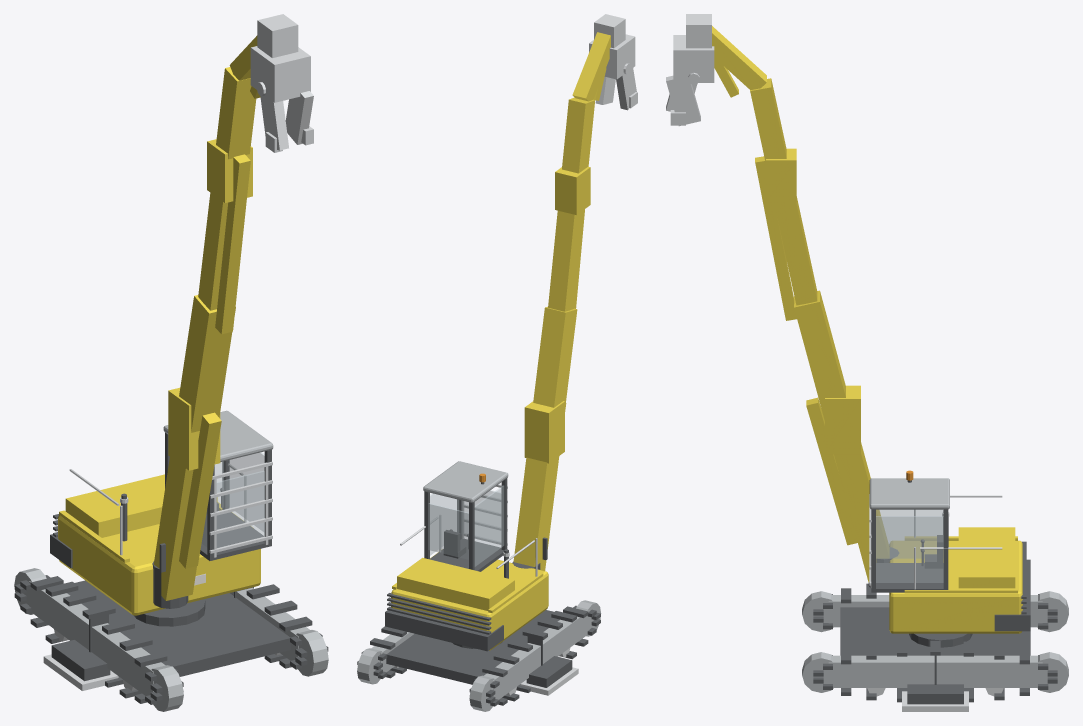
Rendered from high-reach-demolition-excavator.glb.
3 renders of one model, left to right at view 1: azimuth 30°, elevation 25°; view 2: azimuth 150°, elevation 25°; view 3: azimuth 270°, elevation 25°, orthographic. The views are drawn at different scales.
Parts seen in each view (by area): view 1: demolition-and-site-clearance-high-reach-demolition-excavato (×5), boom, pulveriser; view 2: demolition-and-site-clearance-high-reach-demolition-excavato (×5), boom, pulveriser; view 3: demolition-and-site-clearance-high-reach-demolition-excavato (×5), boom, pulveriser.
Boxes of the visible parts, x1=… form: demolition-and-site-clearance-high-reach-demolition-excavato (×5): x1=14, y1=410, x2=328, y2=711; boom: x1=153, y1=35, x2=260, y2=600; pulveriser: x1=250, y1=14, x2=313, y2=152; demolition-and-site-clearance-high-reach-demolition-excavato (×5): x1=357, y1=461, x2=601, y2=711; boom: x1=513, y1=32, x2=610, y2=570; pulveriser: x1=589, y1=14, x2=637, y2=110; demolition-and-site-clearance-high-reach-demolition-excavato (×5): x1=802, y1=478, x2=1068, y2=711; boom: x1=712, y1=26, x2=889, y2=582; pulveriser: x1=666, y1=14, x2=714, y2=126.
Size of the model in its own units: 4.2 by 13.6 by 7.84.
